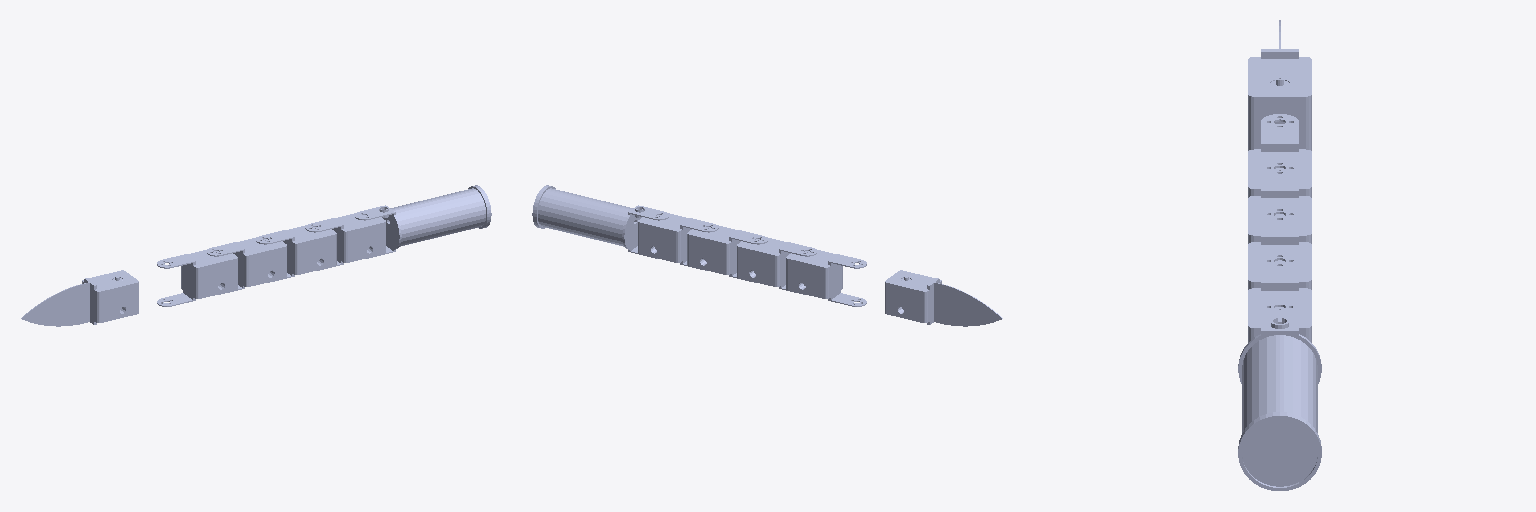
The robot description file, URDF, robot "eel_urdf":
<?xml version="1.0" encoding="utf-8"?>
<!-- This URDF was automatically created by SolidWorks to URDF Exporter! Originally created by Stephen Brawner (brawner@gmail.com) 
     Commit Version: 1.6.0-4-g7f85cfe  Build Version: 1.6.7995.38578
     For more information, please see http://wiki.ros.org/sw_urdf_exporter -->
<robot
  name="eel_urdf">
  <link
    name="base_link">
    <inertial>
      <origin
        xyz="0.062748 2.5587E-16 0.00026796"
        rpy="0 0 0" />
      <mass
        value="0.083903" />
      <inertia
        ixx="4.3479E-05"
        ixy="-1.3947E-21"
        ixz="5.4417E-08"
        iyy="9.8485E-05"
        iyz="-3.0251E-23"
        izz="9.6089E-05" />
    </inertial>
    <visual>
      <origin
        xyz="0 0 0"
        rpy="0 0 0" />
      <geometry>
        <mesh
          filename="package://eel_urdf/meshes/base_link.STL" />
      </geometry>
      <material
        name="">
        <color
          rgba="0.79216 0.81961 0.93333 1" />
      </material>
    </visual>
    <collision>
      <origin
        xyz="0 0 0"
        rpy="0 0 0" />
      <geometry>
        <mesh
          filename="package://eel_urdf/meshes/base_link.STL" />
      </geometry>
    </collision>
  </link>
  <link
    name="servo1">
    <inertial>
      <origin
        xyz="-0.01159 -6.9584E-08 -0.025118"
        rpy="0 0 0" />
      <mass
        value="0.11323" />
      <inertia
        ixx="3.6169E-05"
        ixy="-4.7019E-10"
        ixz="-1.6398E-07"
        iyy="6.3328E-05"
        iyz="-4.8085E-12"
        izz="5.9619E-05" />
    </inertial>
    <visual>
      <origin
        xyz="0 0 0"
        rpy="0 0 0" />
      <geometry>
        <mesh
          filename="package://eel_urdf/meshes/servo1.STL" />
      </geometry>
      <material
        name="">
        <color
          rgba="0.79216 0.81961 0.93333 1" />
      </material>
    </visual>
    <collision>
      <origin
        xyz="0 0 0"
        rpy="0 0 0" />
      <geometry>
        <mesh
          filename="package://eel_urdf/meshes/servo1.STL" />
      </geometry>
    </collision>
  </link>
  <joint
    name="servo1"
    type="continuous">
    <origin
      xyz="-0.035 0 0.025706"
      rpy="0 0 0" />
    <parent
      link="base_link" />
    <child
      link="servo1" />
    <axis
      xyz="0 0 1" />
    <limit
      lower="0"
      upper="0"
      effort="0"
      velocity="0" />
  </joint>
  <link
    name="servo2">
    <inertial>
      <origin
        xyz="-0.01159 -6.9584E-08 -0.025118"
        rpy="0 0 0" />
      <mass
        value="0.11323" />
      <inertia
        ixx="3.6169E-05"
        ixy="-4.7019E-10"
        ixz="-1.6398E-07"
        iyy="6.3328E-05"
        iyz="-4.8085E-12"
        izz="5.9619E-05" />
    </inertial>
    <visual>
      <origin
        xyz="0 0 0"
        rpy="0 0 0" />
      <geometry>
        <mesh
          filename="package://eel_urdf/meshes/servo2.STL" />
      </geometry>
      <material
        name="">
        <color
          rgba="0.79216 0.81961 0.93333 1" />
      </material>
    </visual>
    <collision>
      <origin
        xyz="0 0 0"
        rpy="0 0 0" />
      <geometry>
        <mesh
          filename="package://eel_urdf/meshes/servo2.STL" />
      </geometry>
    </collision>
  </link>
  <joint
    name="servo2"
    type="continuous">
    <origin
      xyz="-0.072 0 0"
      rpy="0 0 0" />
    <parent
      link="servo1" />
    <child
      link="servo2" />
    <axis
      xyz="0 0 1" />
    <limit
      lower="0"
      upper="0"
      effort="0"
      velocity="0" />
  </joint>
  <link
    name="servo3">
    <inertial>
      <origin
        xyz="-0.01159 -6.9584E-08 -0.025118"
        rpy="0 0 0" />
      <mass
        value="0.11323" />
      <inertia
        ixx="3.6169E-05"
        ixy="-4.7019E-10"
        ixz="-1.6398E-07"
        iyy="6.3328E-05"
        iyz="-4.8085E-12"
        izz="5.9619E-05" />
    </inertial>
    <visual>
      <origin
        xyz="0 0 0"
        rpy="0 0 0" />
      <geometry>
        <mesh
          filename="package://eel_urdf/meshes/servo3.STL" />
      </geometry>
      <material
        name="">
        <color
          rgba="0.79216 0.81961 0.93333 1" />
      </material>
    </visual>
    <collision>
      <origin
        xyz="0 0 0"
        rpy="0 0 0" />
      <geometry>
        <mesh
          filename="package://eel_urdf/meshes/servo3.STL" />
      </geometry>
    </collision>
  </link>
  <joint
    name="servo3"
    type="continuous">
    <origin
      xyz="-0.072 0 0"
      rpy="0 0 0" />
    <parent
      link="servo2" />
    <child
      link="servo3" />
    <axis
      xyz="0 0 1" />
    <limit
      lower="0"
      upper="0"
      effort="0"
      velocity="0" />
  </joint>
  <link
    name="servo4">
    <inertial>
      <origin
        xyz="-0.01159 -6.9584E-08 -0.025118"
        rpy="0 0 0" />
      <mass
        value="0.11323" />
      <inertia
        ixx="3.6169E-05"
        ixy="-4.7019E-10"
        ixz="-1.6398E-07"
        iyy="6.3328E-05"
        iyz="-4.8085E-12"
        izz="5.9619E-05" />
    </inertial>
    <visual>
      <origin
        xyz="0 0 0"
        rpy="0 0 0" />
      <geometry>
        <mesh
          filename="package://eel_urdf/meshes/servo4.STL" />
      </geometry>
      <material
        name="">
        <color
          rgba="0.79216 0.81961 0.93333 1" />
      </material>
    </visual>
    <collision>
      <origin
        xyz="0 0 0"
        rpy="0 0 0" />
      <geometry>
        <mesh
          filename="package://eel_urdf/meshes/servo4.STL" />
      </geometry>
    </collision>
  </link>
  <joint
    name="servo4"
    type="continuous">
    <origin
      xyz="-0.072 0 0"
      rpy="0 0 0" />
    <parent
      link="servo3" />
    <child
      link="servo4" />
    <axis
      xyz="0 0 1" />
    <limit
      lower="0"
      upper="0"
      effort="0"
      velocity="0" />
  </joint>
  <link
    name="servo5">
    <inertial>
      <origin
        xyz="-0.01159 -6.9584E-08 -0.025118"
        rpy="0 0 0" />
      <mass
        value="0.11323" />
      <inertia
        ixx="3.6169E-05"
        ixy="-4.7019E-10"
        ixz="-1.6398E-07"
        iyy="6.3328E-05"
        iyz="-4.8085E-12"
        izz="5.9619E-05" />
    </inertial>
    <visual>
      <origin
        xyz="0 0 0"
        rpy="0 0 0" />
      <geometry>
        <mesh
          filename="package://eel_urdf/meshes/servo5.STL" />
      </geometry>
      <material
        name="">
        <color
          rgba="0.79216 0.81961 0.93333 1" />
      </material>
    </visual>
    <collision>
      <origin
        xyz="0 0 0"
        rpy="0 0 0" />
      <geometry>
        <mesh
          filename="package://eel_urdf/meshes/servo5.STL" />
      </geometry>
    </collision>
  </link>
  <joint
    name="servo5"
    type="continuous">
    <origin
      xyz="-0.072 0 0"
      rpy="0 0 0" />
    <parent
      link="servo4" />
    <child
      link="servo5" />
    <axis
      xyz="0 0 1" />
    <limit
      lower="0"
      upper="0"
      effort="0"
      velocity="0" />
  </joint>
  <link
    name="servo6">
    <inertial>
      <origin
        xyz="-0.013811 2.5153E-17 -0.025129"
        rpy="0 0 0" />
      <mass
        value="0.11626" />
      <inertia
        ixx="3.5103E-05"
        ixy="2.7809E-20"
        ixz="-3.1447E-07"
        iyy="8.4443E-05"
        iyz="1.5836E-20"
        izz="8.1511E-05" />
    </inertial>
    <visual>
      <origin
        xyz="0 0 0"
        rpy="0 0 0" />
      <geometry>
        <mesh
          filename="package://eel_urdf/meshes/servo6.STL" />
      </geometry>
      <material
        name="">
        <color
          rgba="0.79216 0.81961 0.93333 1" />
      </material>
    </visual>
    <collision>
      <origin
        xyz="0 0 0"
        rpy="0 0 0" />
      <geometry>
        <mesh
          filename="package://eel_urdf/meshes/servo6.STL" />
      </geometry>
    </collision>
  </link>
  <joint
    name="servo6"
    type="continuous">
    <origin
      xyz="-0.072 0 0"
      rpy="0 0 0" />
    <parent
      link="servo5" />
    <child
      link="servo6" />
    <axis
      xyz="0 0 1" />
    <limit
      lower="0"
      upper="0"
      effort="0"
      velocity="0" />
  </joint>
</robot>

--- Facts derived from the render (not from the file) ---
Views: 3 orthographic renders of the robot side by side, from view 1: azimuth 30°, elevation 25°; view 2: azimuth 150°, elevation 25°; view 3: azimuth 270°, elevation 25°.
Model eel_urdf with 7 links and 6 joints (6 continuous), rooted at base_link, posed all joints at 0.
Links seen in each view (by area): view 1: base_link, servo6, servo4, servo2, servo1, servo3; view 2: base_link, servo6, servo4, servo2, servo1, servo3; view 3: base_link, servo6, servo1, servo4, servo3, servo2.
Link boxes in pixels (bbox=[...]): base_link: bbox=[355, 185, 491, 258]; servo6: bbox=[21, 270, 138, 326]; servo4: bbox=[157, 249, 237, 306]; servo2: bbox=[256, 225, 336, 282]; servo1: bbox=[305, 213, 385, 270]; servo3: bbox=[207, 237, 286, 294]; base_link: bbox=[532, 185, 668, 258]; servo6: bbox=[885, 270, 1002, 326]; servo4: bbox=[786, 249, 866, 306]; servo2: bbox=[687, 225, 767, 282]; servo1: bbox=[638, 213, 718, 270]; servo3: bbox=[737, 237, 816, 294]; base_link: bbox=[1238, 299, 1321, 490]; servo6: bbox=[1248, 20, 1311, 150]; servo1: bbox=[1248, 253, 1311, 342]; servo4: bbox=[1248, 114, 1311, 197]; servo3: bbox=[1248, 160, 1311, 243]; servo2: bbox=[1248, 207, 1311, 289].
Size in the robot's own frame: 0.67 by 0.055 by 0.058 metres.
Meshes: 7 distinct files referenced, 6 mesh visuals loaded (6 binary STL); not drawn: 1 (reference not matched to a file when rendering).
